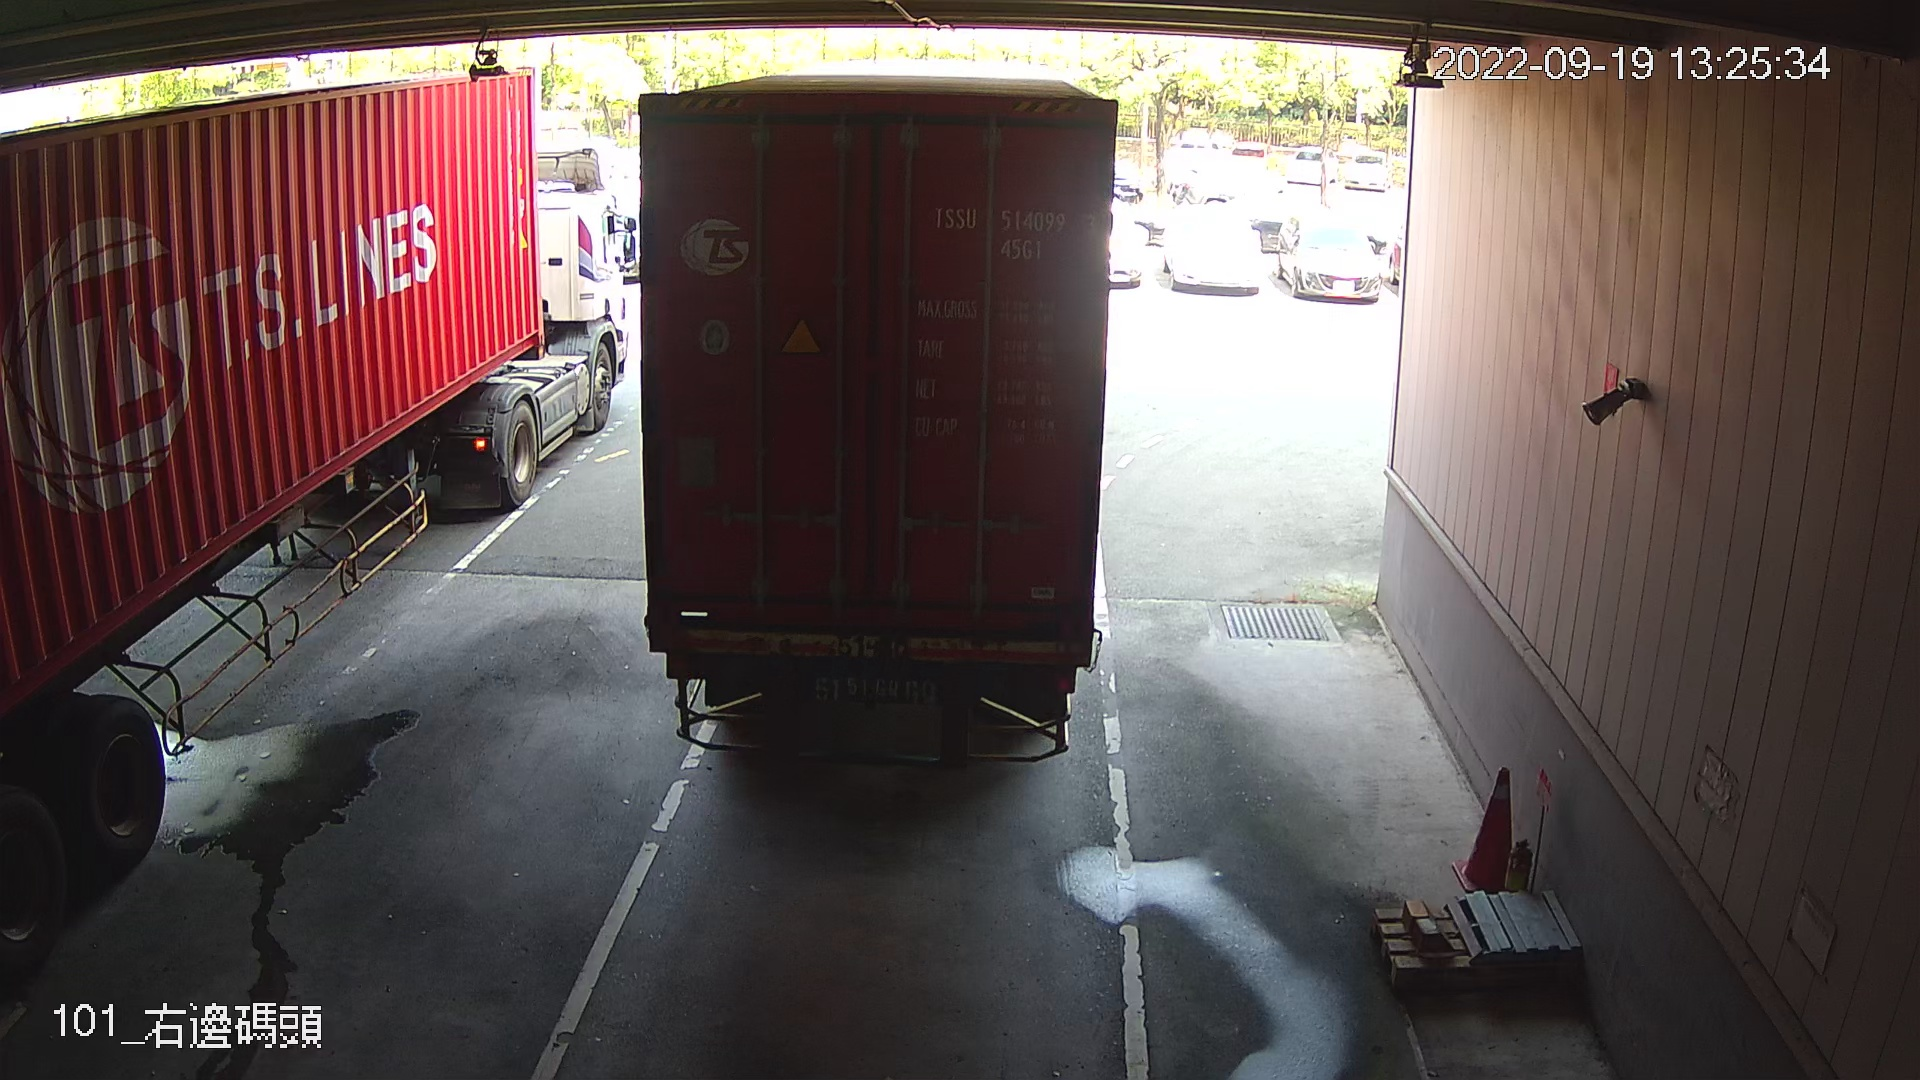container: (926, 196, 1106, 276)
